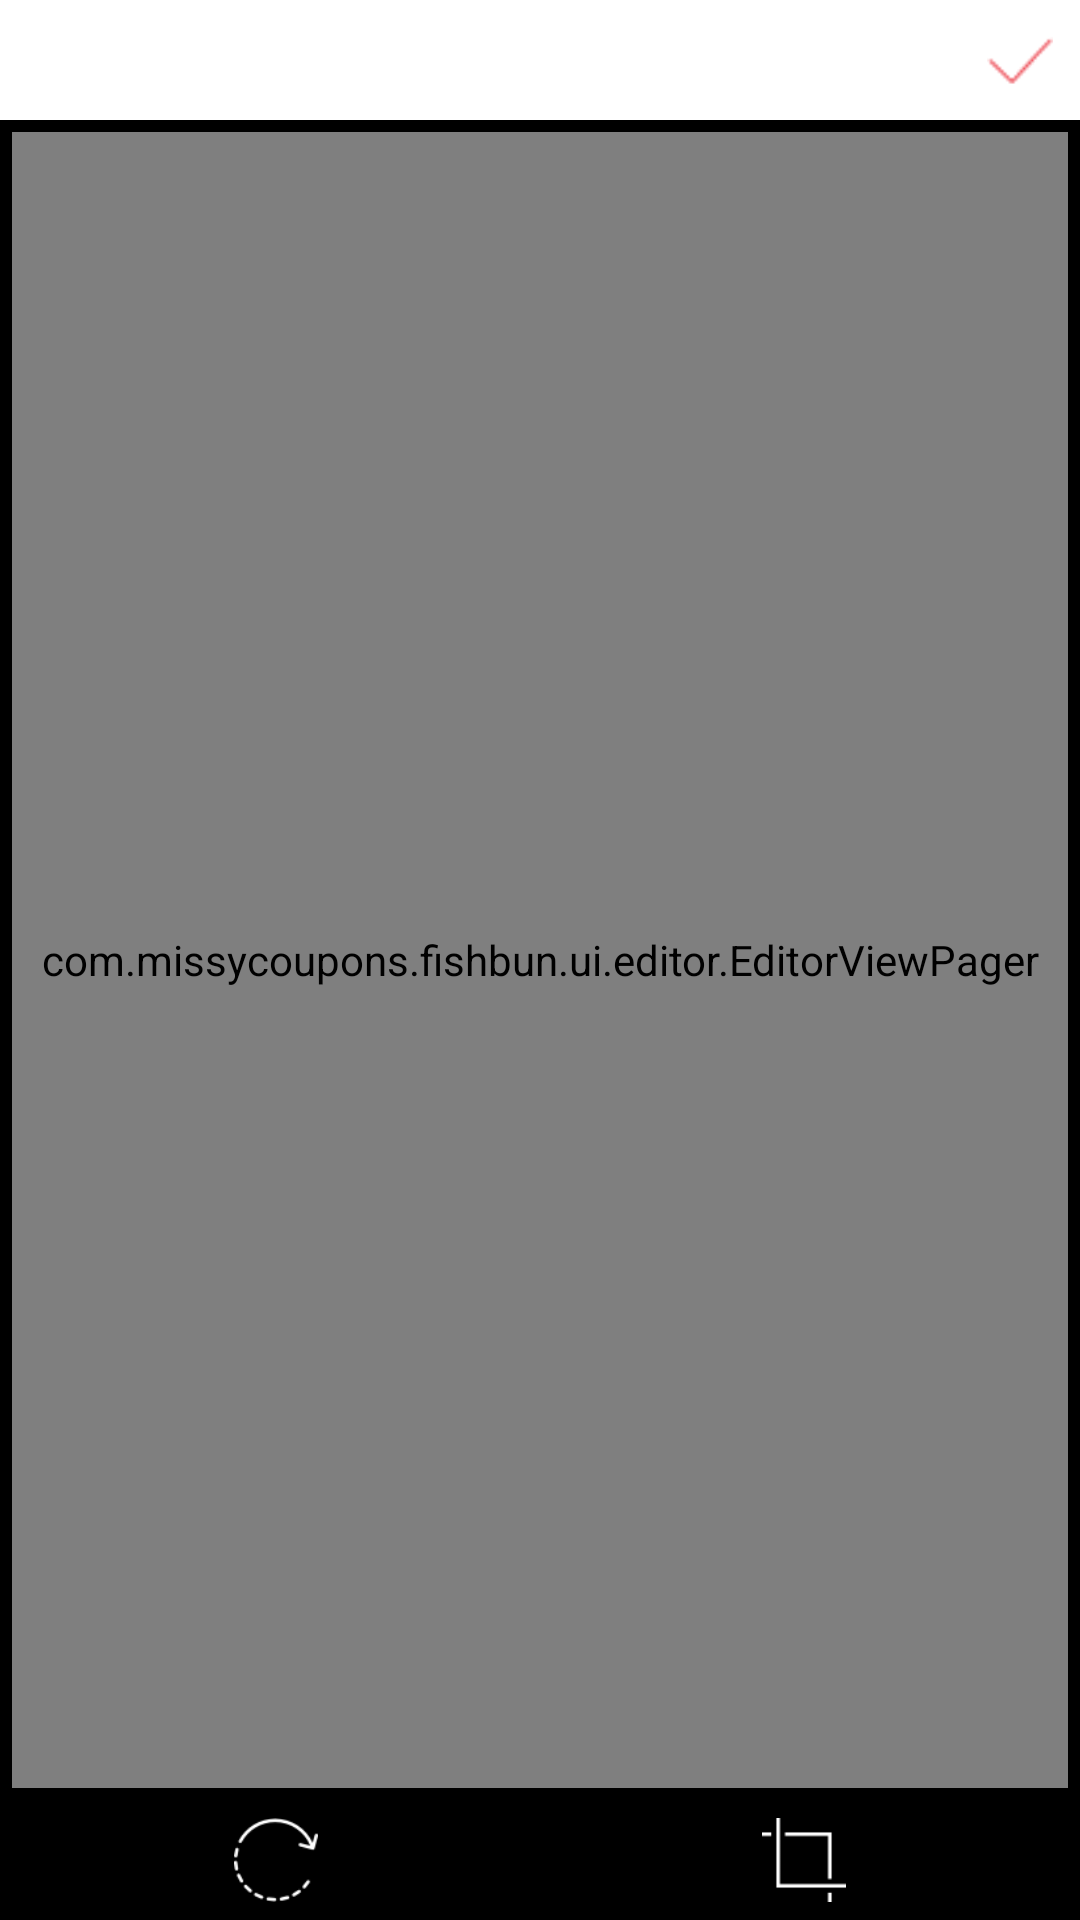

Screen size 1080 x 1920. Icon name, then its center in pixels as [x,y]:
fishbun apply: [1020,61]
fishbun crop: [804,1860]
fishbun rotate: [276,1860]
